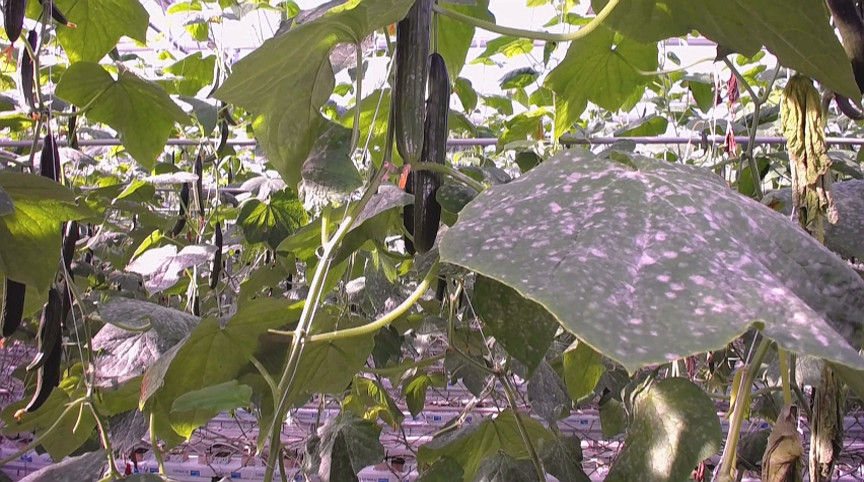cucumber: (414, 52, 450, 253), (395, 1, 432, 163), (28, 308, 63, 413), (25, 289, 61, 373), (1, 273, 27, 335), (19, 33, 35, 113), (208, 224, 224, 289), (39, 135, 60, 181), (2, 1, 26, 40)
